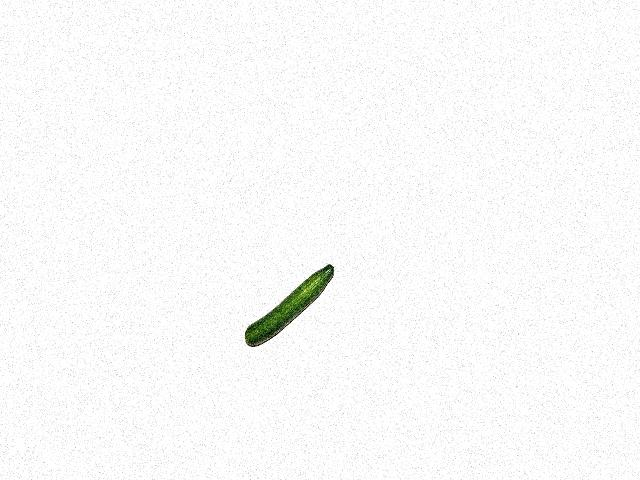cucumber: (244, 264, 333, 346)
